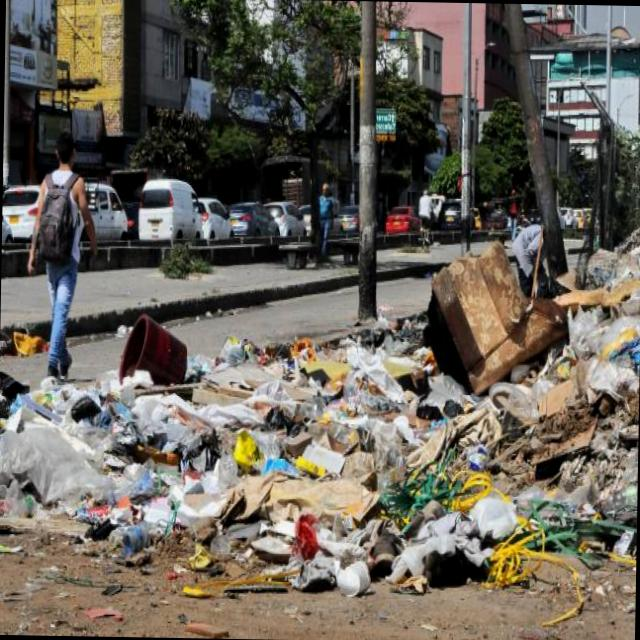garbage: (0, 274, 640, 597)
